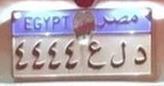4: (63, 38, 78, 73), (46, 39, 61, 73), (30, 40, 45, 72), (13, 41, 29, 71)
ain: (85, 40, 106, 73)
daal: (132, 44, 148, 68)
laam: (109, 39, 127, 71)
